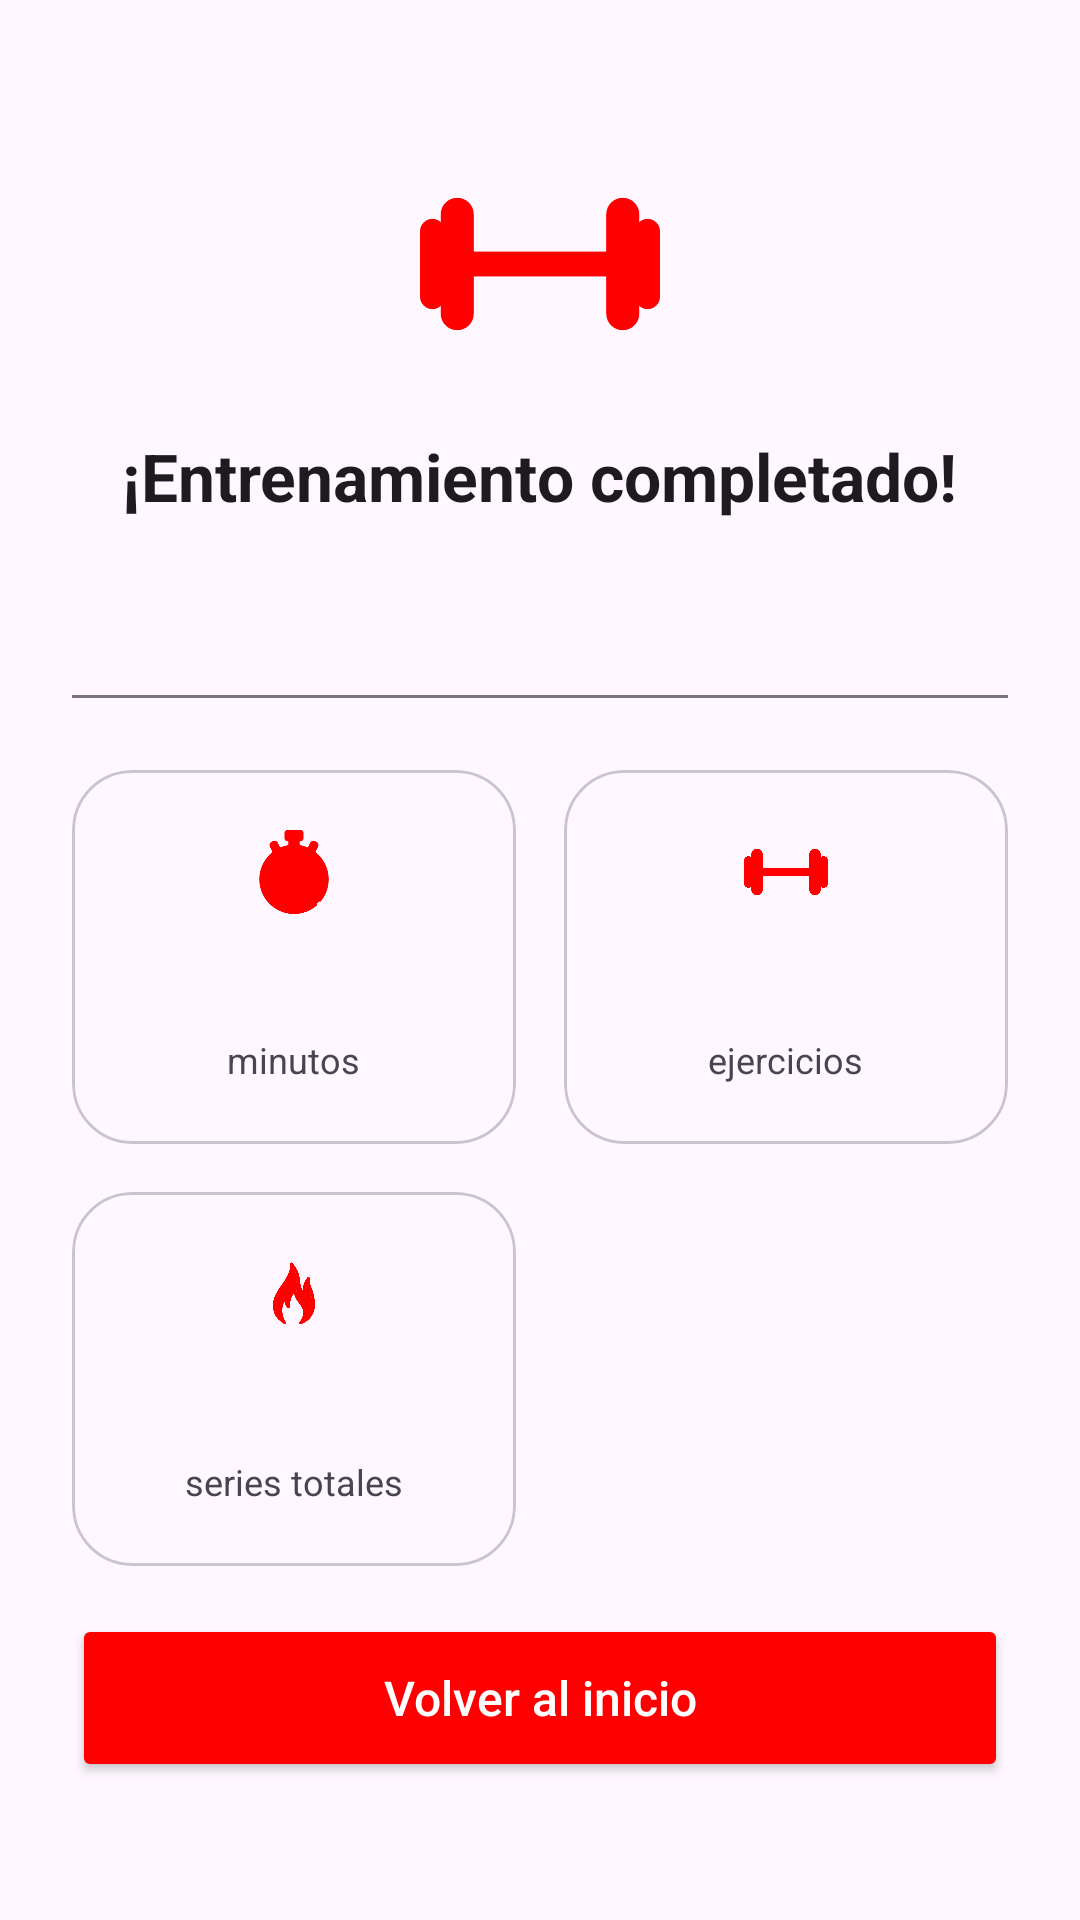

Point at icon controls on the screen. Image size 1080w x 1920h, points as point (x, y).
dumbbell: point (540, 264), point (786, 872)
fire: point (294, 1293)
timer: point (294, 872)
